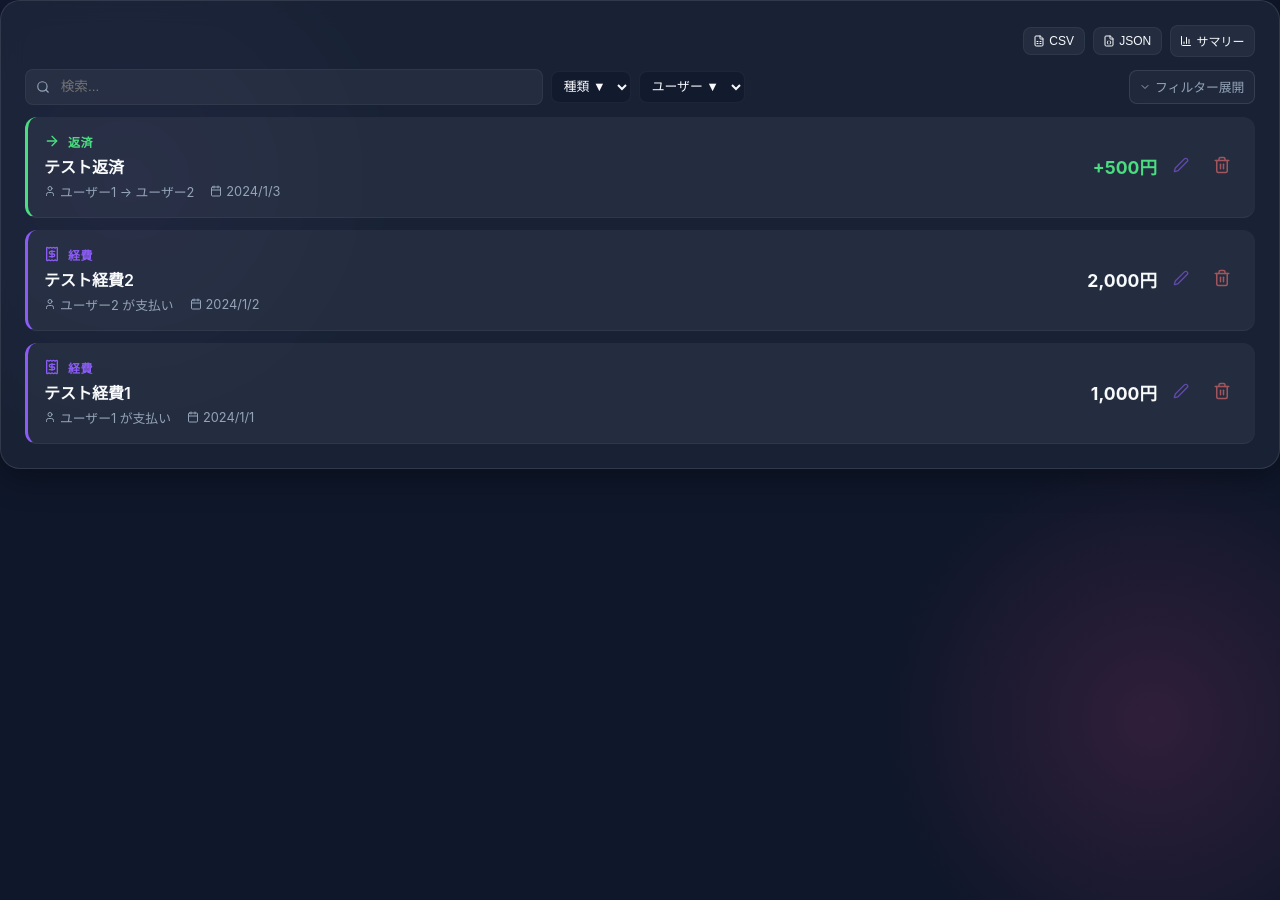
TransactionList Component › 編集ボタンをクリックすると編集フォームが表示される
This screenshot has width=1280, height=900.
Click the button named "編集" in the row of "500".
click(1181, 167)  # box 1165,149 -> 1197,184
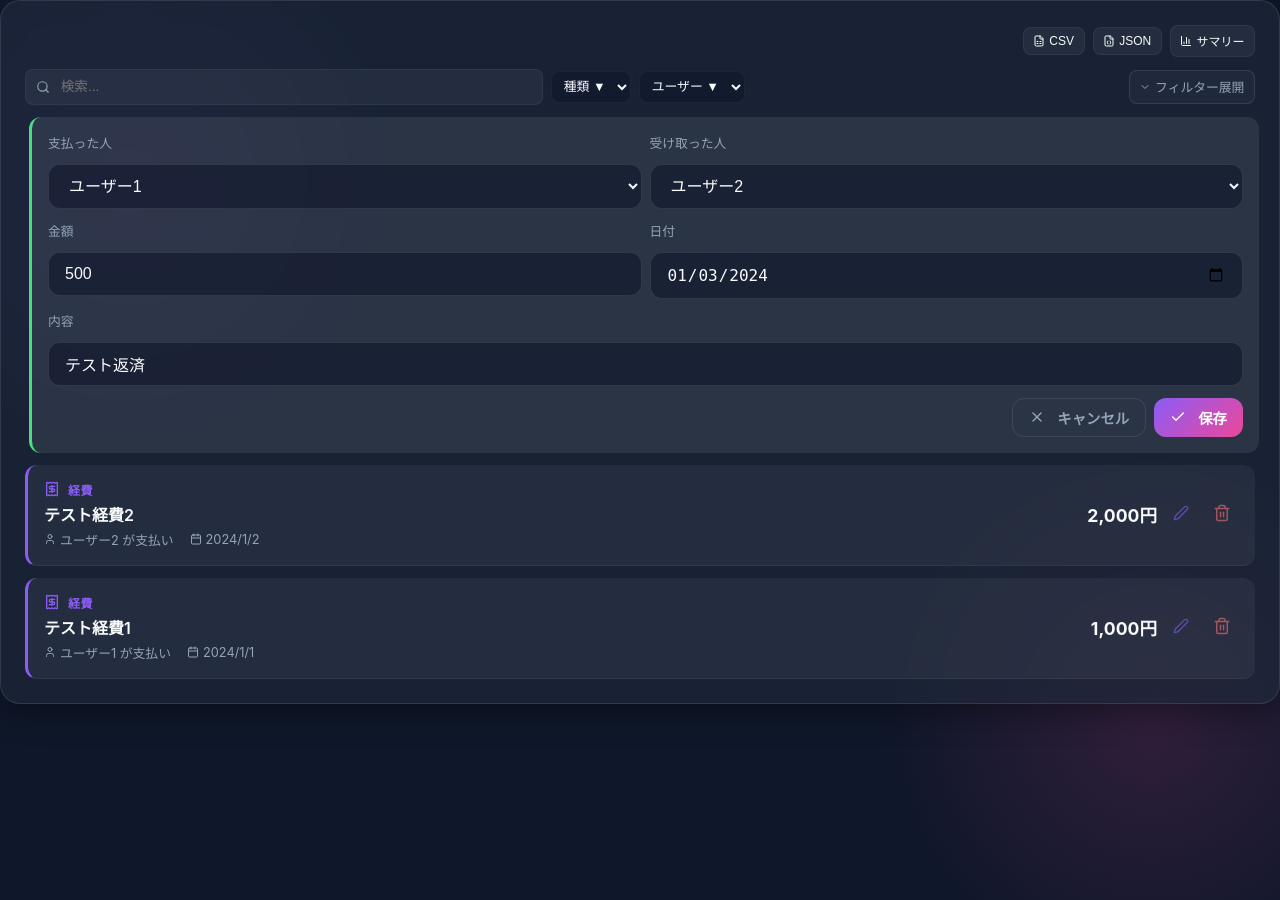
Now the button "保存" is shown, box 1154,398 -> 1243,437
Now the button "キャンセル" is shown, box 1012,398 -> 1146,437
